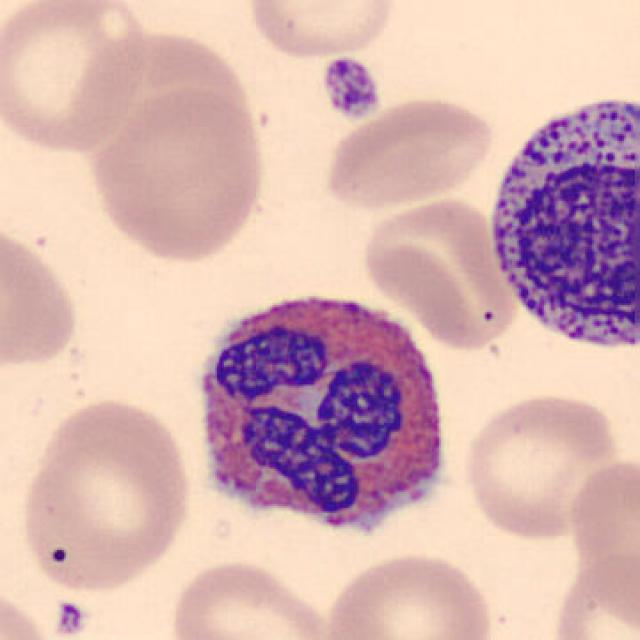Basophil: (484, 93, 640, 355)
Eosinophil: (185, 274, 460, 556)
Platelets: (318, 53, 384, 123), (50, 596, 89, 640)
RBC: (14, 391, 196, 598), (84, 83, 270, 266), (73, 26, 255, 208), (459, 388, 624, 545), (359, 192, 519, 353), (0, 0, 151, 157), (318, 92, 498, 213), (316, 548, 499, 640), (164, 555, 338, 640), (0, 220, 84, 372), (563, 453, 640, 589), (242, 0, 400, 63), (547, 546, 640, 640), (0, 582, 62, 640)
